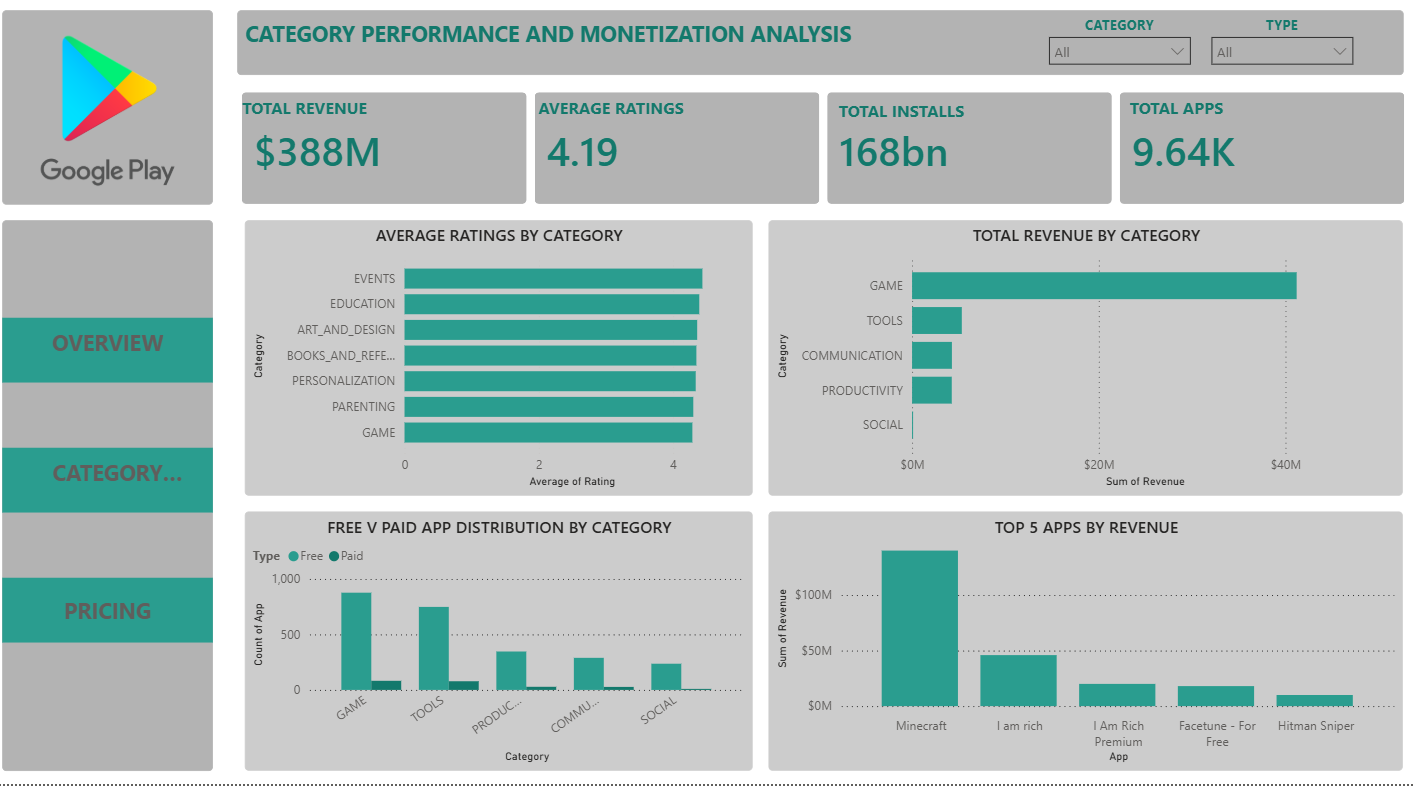

What the dashboard file says about the page in this screenshot:
{"tool":"powerbi","page":{"name":"CATEGORY PERFORMANCE","canvas":[1420,780],"ordinal":1},"visuals":[{"type":"textbox","box":[1200,16,160,32],"z":0,"group":"g4"},{"type":"textbox","box":[16,224,208,544],"z":0},{"type":"clusteredBarChart","title":"TOTAL REVENUE BY CATEGORY","fields":{"Category":["google_play_store_dataset.Category"],"Y":["Sum(google_play_store_dataset.Revenue)"]},"box":[773.1,224,626.8,272],"z":0,"group":"g3"},{"type":"textbox","box":[16,16,208,192],"z":1000},{"type":"group","id":"g1","title":"Group 5","box":[1040,16,320,64],"z":1000,"group":"g4"},{"type":"clusteredBarChart","title":"AVERAGE RATINGS BY CATEGORY","fields":{"Category":["google_play_store_dataset.Category"],"Y":["Avg(google_play_store_dataset.Rating)"]},"box":[256,224,501.4,272],"z":1000,"group":"g3"},{"type":"image","box":[16,16,208,192],"z":2000},{"type":"textbox","box":[1124.7,96,227.3,48],"z":2000,"group":"g2"},{"type":"columnChart","title":"TOP 5 APPS BY REVENUE","fields":{"Category":["google_play_store_dataset.App"],"Y":["Sum(google_play_store_dataset.Revenue)"]},"box":[773.1,512,626.8,256],"z":2000,"group":"g3"},{"type":"cardVisual","fields":{"Data":["Sum(google_play_store_dataset.Revenue)","Avg(google_play_store_dataset.Rating)","Sum(google_play_store_dataset.Installs)","Count(google_play_store_dataset.App)"]},"box":[236,80,1184,144],"z":3000},{"type":"textbox","box":[832.5,96,243.5,64],"z":3000,"group":"g2"},{"type":"clusteredColumnChart","title":"FREE V PAID APP DISTRIBUTION BY CATEGORY","fields":{"Category":["google_play_store_dataset.Category"],"Series":["google_play_store_dataset.Type"],"Y":["Count(google_play_store_dataset.App)"]},"box":[256,512,501.4,256],"z":3000,"group":"g3"},{"type":"group","id":"g2","title":"Group 2","box":[248,96,1104,64],"z":4000},{"type":"textbox","box":[540.2,96,227.3,48],"z":4000,"group":"g2"},{"type":"textbox","box":[248,96,227.3,48],"z":5000,"group":"g2"},{"type":"group","id":"g3","title":"Group 1","box":[256,224,1136,544],"z":5000},{"type":"textbox","box":[248,16,1152,64],"z":6000},{"type":"group","id":"g4","title":"Group 4","box":[1040,16,320,64],"z":7000},{"type":"slicer","fields":{"Values":["google_play_store_dataset.Category"]},"box":[1040,32,160,48],"z":7000,"group":"g5"},{"type":"slicer","fields":{"Values":["google_play_store_dataset.Type"]},"box":[1200,32,160,48],"z":8000,"group":"g1"},{"type":"shape","box":[16,320,208,64],"z":8000},{"type":"textbox","box":[1040,16,160,32],"z":9000,"group":"g5"},{"type":"shape","box":[16,448,208,64],"z":9000},{"type":"shape","box":[16,576,208,64],"z":10000},{"type":"group","id":"g5","title":"Group 3","box":[1040,16,160,64],"z":10001,"group":"g1"},{"type":"actionButton","box":[16,576,208,64],"z":11000},{"type":"actionButton","box":[16,448,208,48],"z":12000},{"type":"actionButton","box":[16,320,208,48],"z":13000}]}

Visuals, with their boxes in screenshot pixels (x1, y1, x2, y2), scaled from the page's 1420x780 canvas onto the 1415x787 screenshot:
textbox: (x1=1196, y1=16, x2=1355, y2=48)
textbox: (x1=16, y1=226, x2=223, y2=775)
"TOTAL REVENUE BY CATEGORY" clusteredBarChart: (x1=770, y1=226, x2=1395, y2=500)
textbox: (x1=16, y1=16, x2=223, y2=210)
"Group 5" group: (x1=1036, y1=16, x2=1355, y2=81)
"AVERAGE RATINGS BY CATEGORY" clusteredBarChart: (x1=255, y1=226, x2=755, y2=500)
image: (x1=16, y1=16, x2=223, y2=210)
textbox: (x1=1121, y1=97, x2=1347, y2=145)
"TOP 5 APPS BY REVENUE" columnChart: (x1=770, y1=517, x2=1395, y2=775)
cardVisual - Sum(google_play_store_dataset.Revenue) x Avg(google_play_store_dataset.Rating): (x1=235, y1=81, x2=1414, y2=226)
textbox: (x1=830, y1=97, x2=1072, y2=161)
"FREE V PAID APP DISTRIBUTION BY CATEGORY" clusteredColumnChart: (x1=255, y1=517, x2=755, y2=775)
"Group 2" group: (x1=247, y1=97, x2=1347, y2=161)
textbox: (x1=538, y1=97, x2=765, y2=145)
textbox: (x1=247, y1=97, x2=474, y2=145)
"Group 1" group: (x1=255, y1=226, x2=1387, y2=775)
textbox: (x1=247, y1=16, x2=1395, y2=81)
"Group 4" group: (x1=1036, y1=16, x2=1355, y2=81)
slicer - google_play_store_dataset.Category: (x1=1036, y1=32, x2=1196, y2=81)
slicer - google_play_store_dataset.Type: (x1=1196, y1=32, x2=1355, y2=81)
shape: (x1=16, y1=323, x2=223, y2=387)
textbox: (x1=1036, y1=16, x2=1196, y2=48)
shape: (x1=16, y1=452, x2=223, y2=517)
shape: (x1=16, y1=581, x2=223, y2=646)
"Group 3" group: (x1=1036, y1=16, x2=1196, y2=81)
actionButton: (x1=16, y1=581, x2=223, y2=646)
actionButton: (x1=16, y1=452, x2=223, y2=500)
actionButton: (x1=16, y1=323, x2=223, y2=371)
